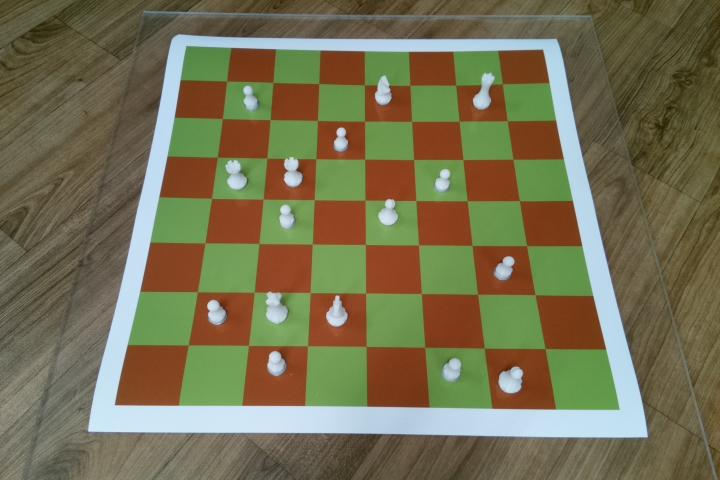chessboard-detect: (114, 46, 622, 411)
